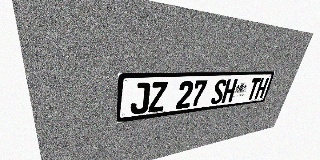2: (176, 80, 194, 109)
7: (189, 80, 208, 107)
H: (221, 79, 238, 103), (254, 77, 269, 99)
J: (130, 82, 150, 115)
S: (210, 79, 227, 105)
T: (246, 78, 261, 100)
Z: (148, 82, 168, 113)
